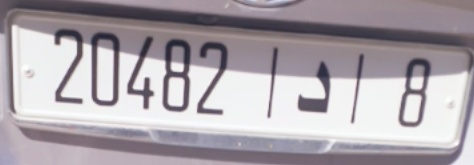0: (85, 29, 124, 109)
2: (189, 37, 234, 119), (45, 23, 86, 110)
4: (124, 33, 159, 112)
8: (396, 54, 435, 135), (159, 33, 194, 114)
d: (292, 51, 340, 122)
